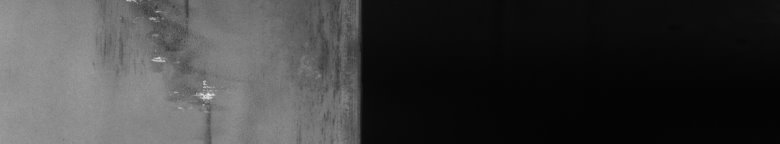hc: (104, 4, 223, 136)
